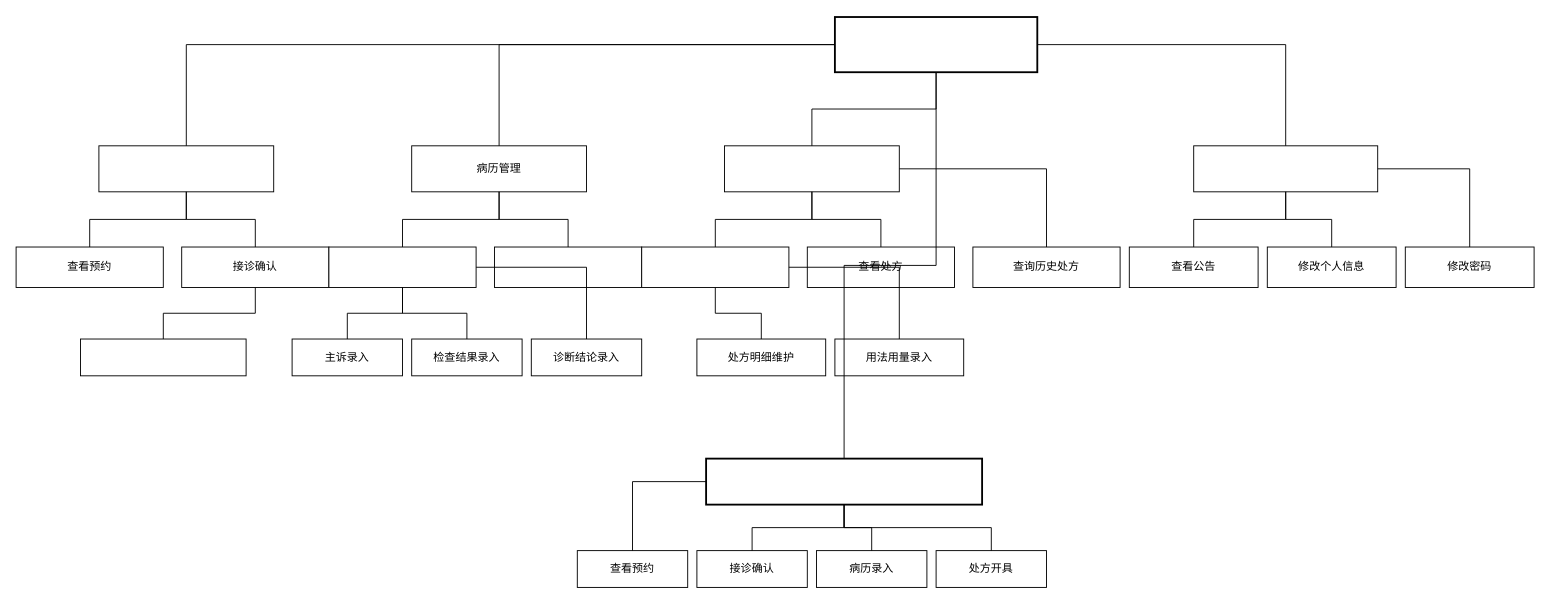
Image size: 1550x604. Some labels were removed from this diagram. Here are the shapes that lost their labels. From the top down, the box of each, then its label:
(834, 16, 1038, 73): 医生功能结构
(98, 145, 274, 192): 接诊工作台
(724, 145, 899, 192): 处方管理
(1193, 145, 1378, 192): 业务查询与协同
(328, 246, 476, 288): 编辑病历
(494, 246, 642, 288): 查询历史病历
(641, 246, 789, 288): 开具处方
(80, 338, 246, 376): 创建就诊记录
(705, 457, 983, 505): 诊疗闭环
